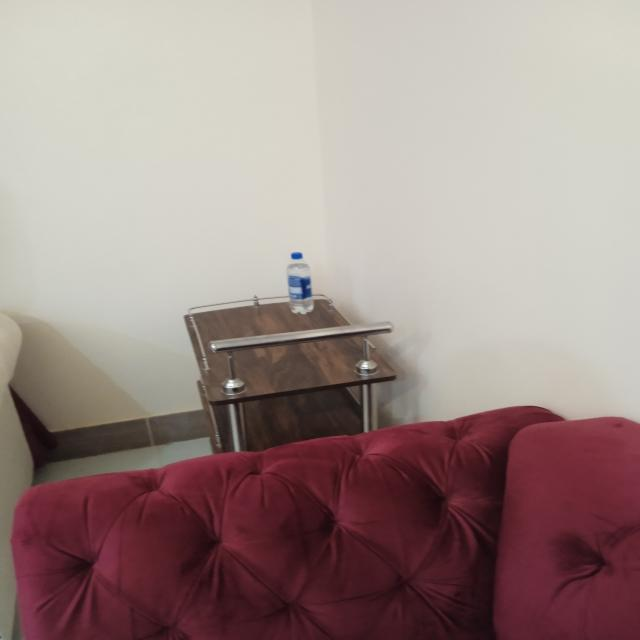Plastic: (283, 248, 328, 318)
